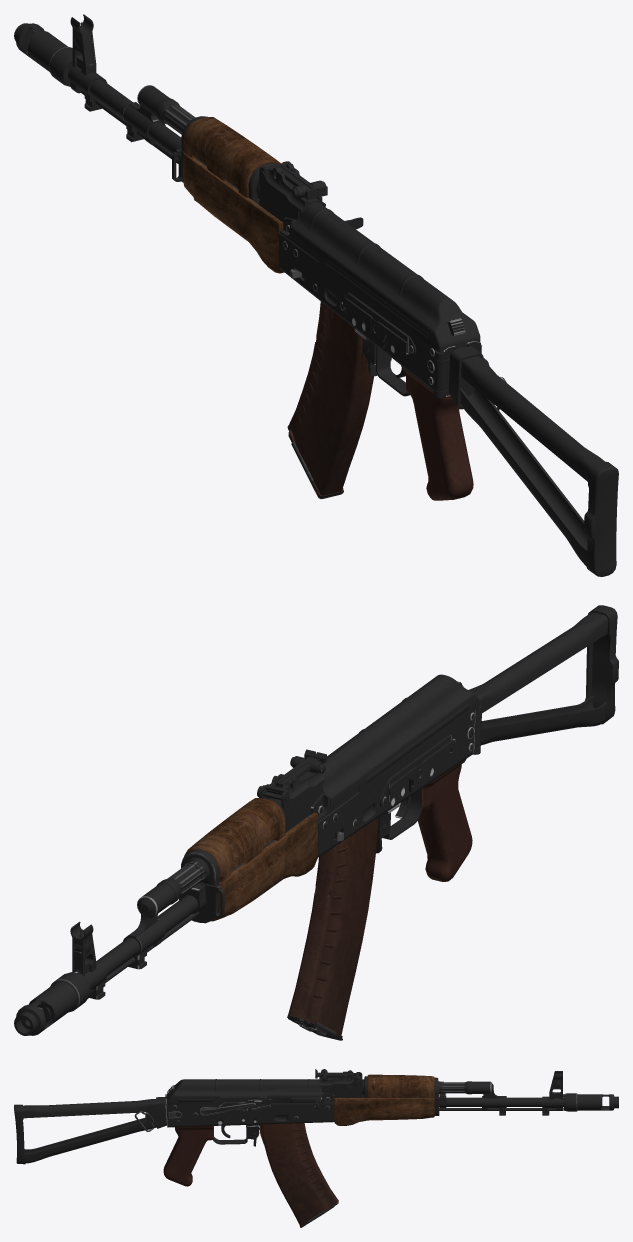
The model's file is aks74.glb.
3 renders of one model, top to bottom at view 1: azimuth 30°, elevation 25°; view 2: azimuth 150°, elevation 25°; view 3: azimuth 270°, elevation 25°, orthographic. The views are drawn at different scales.
Visible parts, largest first — view 1: AKS-74_body, AK-74_polymer_mag30, AK-74_wooden_furniture.001, AK-74_grip.002; view 2: AKS-74_body, AK-74_polymer_mag30, AK-74_wooden_furniture.001, AK-74_grip.002; view 3: AKS-74_body, AK-74_polymer_mag30, AK-74_wooden_furniture.001, AK-74_grip.002.
Part boxes in pixels (x1,y1,x2,y2): AKS-74_body: [14, 14, 618, 576]; AK-74_polymer_mag30: [287, 301, 373, 499]; AK-74_wooden_furniture.001: [183, 117, 284, 273]; AK-74_grip.002: [401, 365, 473, 500]; AKS-74_body: [14, 605, 618, 1035]; AK-74_polymer_mag30: [287, 818, 378, 1040]; AK-74_wooden_furniture.001: [184, 798, 317, 921]; AK-74_grip.002: [417, 759, 472, 881]; AKS-74_body: [14, 1069, 618, 1164]; AK-74_polymer_mag30: [259, 1123, 338, 1227]; AK-74_wooden_furniture.001: [334, 1074, 434, 1125]; AK-74_grip.002: [163, 1126, 213, 1186].
Size of the model in its own units: 0.0689 by 0.2612 by 0.9316.
Materials: 3 (3 with a texture image).
